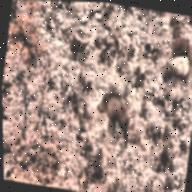boar: (87, 88, 138, 149)
